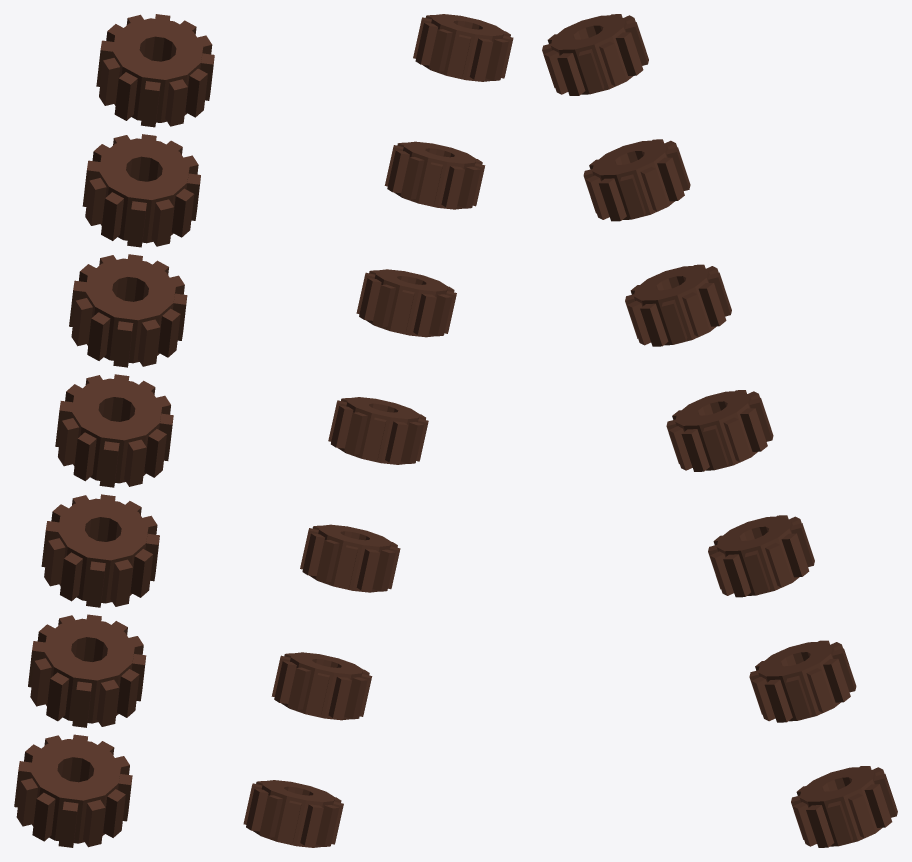
Rendered from Gear_04.fbx.
The picture shows the model from 3 angles, left to right: view 1: azimuth 30°, elevation 25°; view 2: azimuth 150°, elevation 25°; view 3: azimuth 270°, elevation 25°; orthographic projection. The views are drawn at different scales.
Visible parts, largest first — view 1: Building.012; view 2: Building.012; view 3: Building.012.
Boxes of the visible parts, box(x1,y1,x2,y2) form: Building.012: box(14, 14, 214, 847); Building.012: box(243, 14, 513, 847); Building.012: box(542, 14, 897, 847).
Size of the model in its own units: 1.49 by 7.94 by 3.24.
